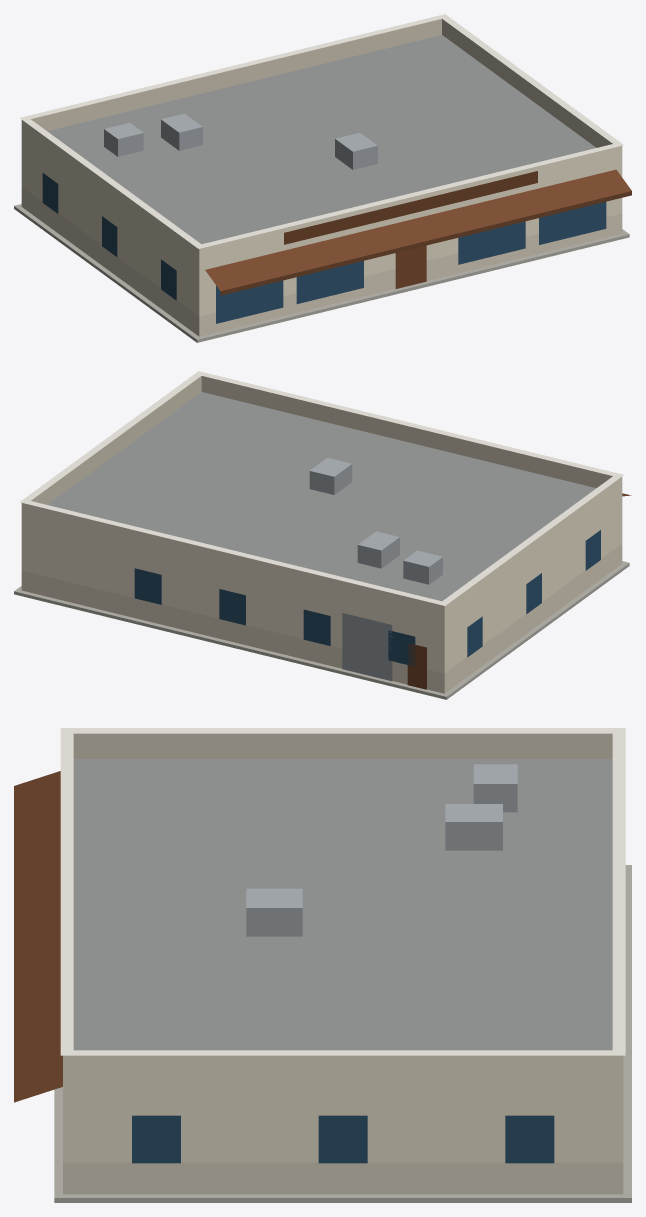
The model's file is store_22x16_lod1.glb.
3 renders of one model, top to bottom at view 1: azimuth 30°, elevation 25°; view 2: azimuth 150°, elevation 25°; view 3: azimuth 270°, elevation 25°, orthographic. The views are drawn at different scales.
Parts seen in each view (by area): view 1: block; view 2: block; view 3: block.
Part boxes in pixels (x1,y1,x2,y2): block: (14, 14, 631, 342); block: (14, 371, 631, 699); block: (14, 728, 631, 1202).
Bounding box in the file's own units: 22.5 × 4.66 × 17.65.
